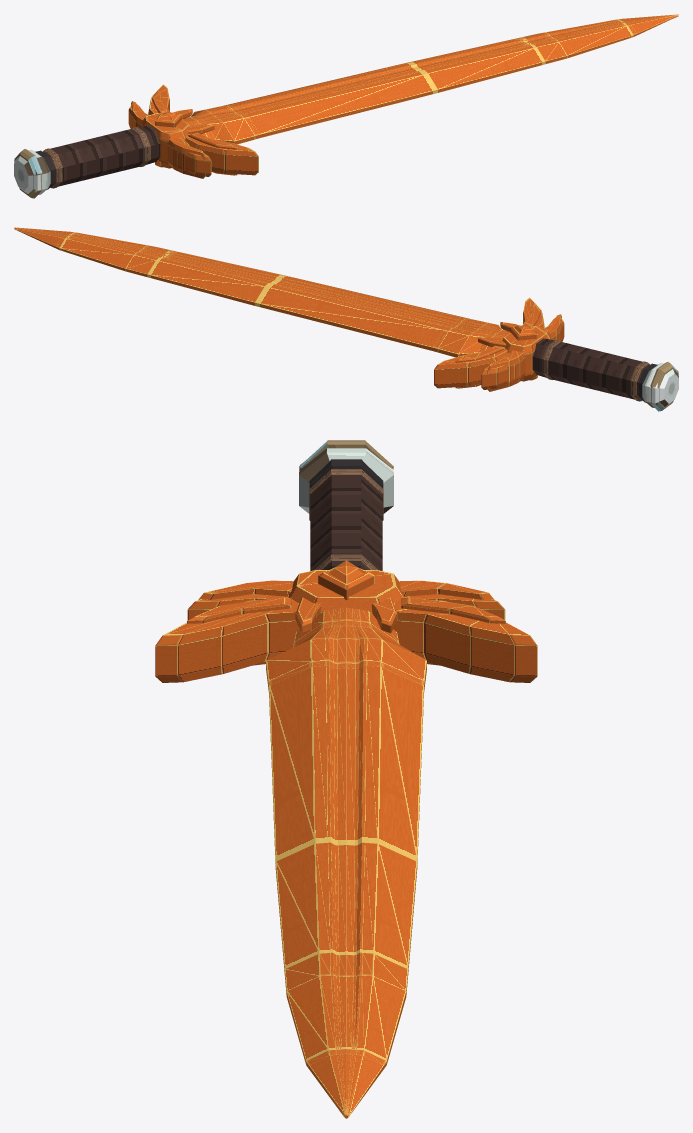
Rendered from bench_zhuji_baiqing_lingyun_sword_5_hot.obj.
3 renders of one model, top to bottom at view 1: azimuth 30°, elevation 25°; view 2: azimuth 150°, elevation 25°; view 3: azimuth 270°, elevation 25°, orthographic. The views are drawn at different scales.
Parts seen in each view (by area): view 1: geometry; view 2: geometry; view 3: geometry.
Part boxes in pixels (x1=…): geometry: x1=14, y1=14, x2=678, y2=198; geometry: x1=14, y1=227, x2=678, y2=411; geometry: x1=155, y1=440, x2=537, y2=1118.
Size of the model in its own units: 0.75 by 0.0579 by 0.1889.
